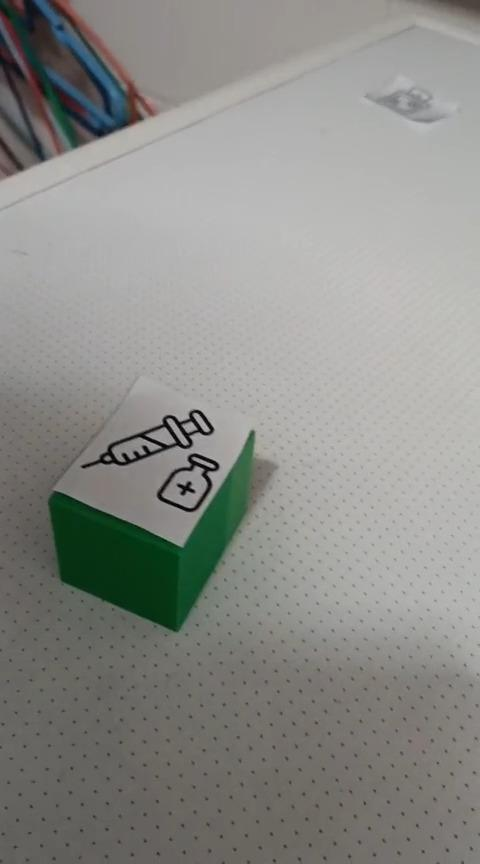antiseptic cream: (46, 373, 257, 632)
